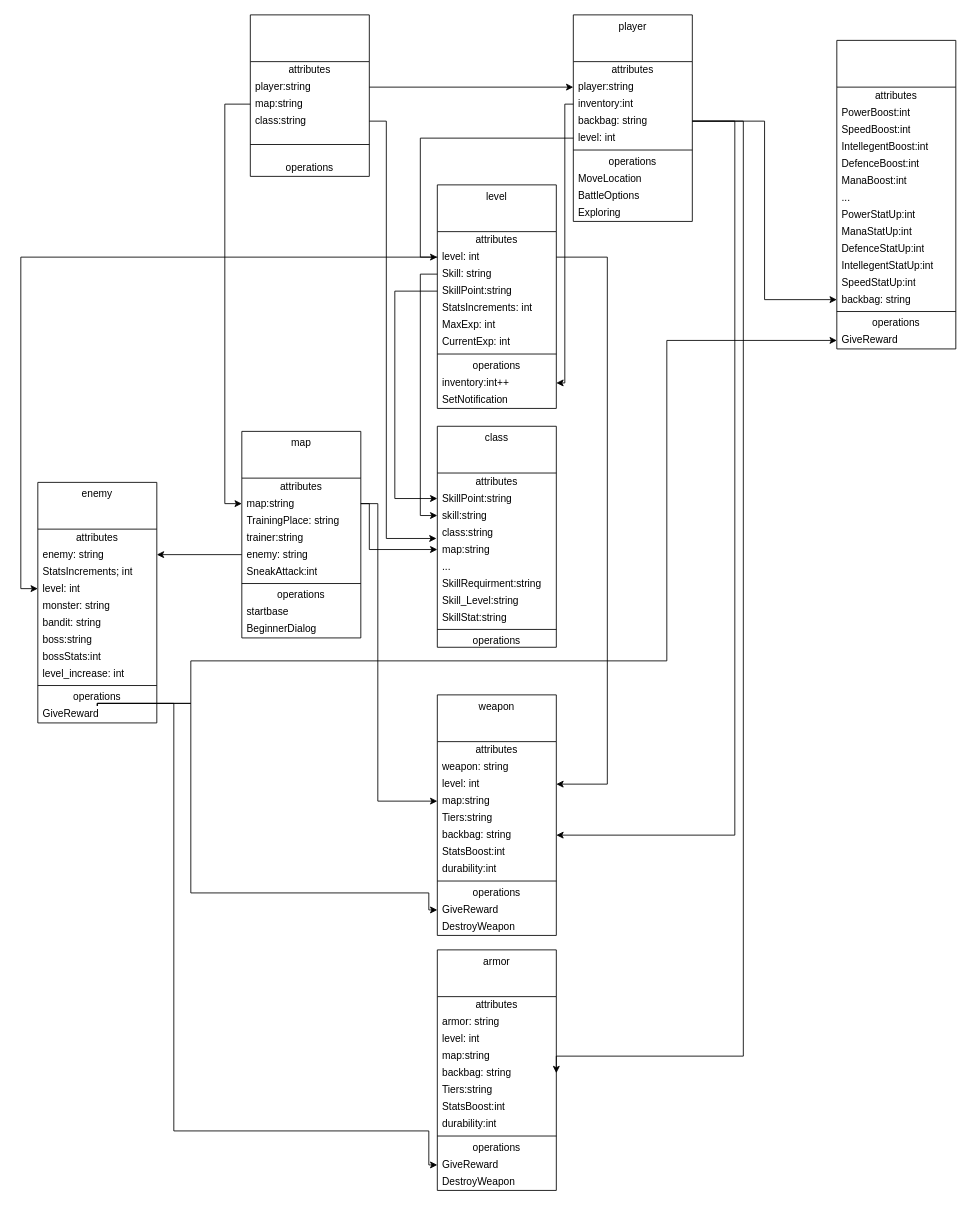
This 971x1205 diagram has some shape labels left out. Each missing label, with the box of its shape:
adventure: (249, 14, 369, 176)
item: (836, 40, 956, 349)
